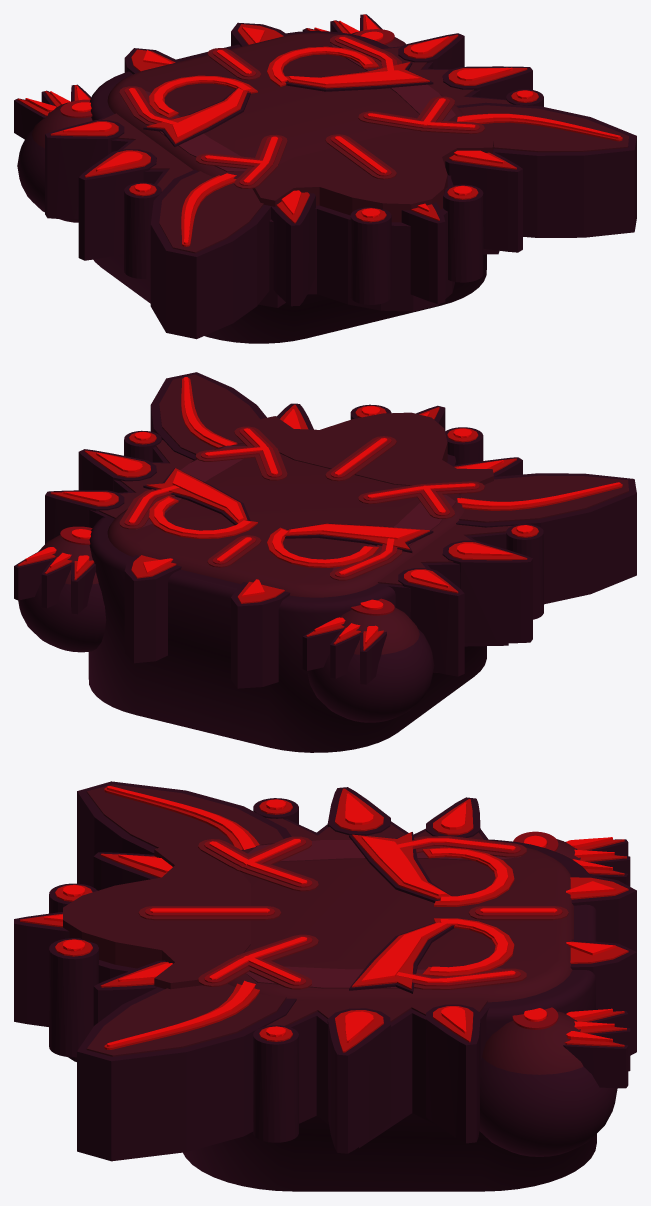
File: body_sombra_carmesim.fbx
3 renders of one model, top to bottom at view 1: azimuth 30°, elevation 25°; view 2: azimuth 150°, elevation 25°; view 3: azimuth 270°, elevation 25°, orthographic. The views are drawn at different scales.
Visible parts, largest first — view 1: body_sombra_carmesim_corpo, body_sombra_carmesim_mao_esq, body_sombra_carmesim_corpo_neon, body_sombra_carmesim_mao, body_sombra_carmesim_mao_esq_neon; view 2: body_sombra_carmesim_corpo, body_sombra_carmesim_mao_esq, body_sombra_carmesim_mao, body_sombra_carmesim_corpo_neon, body_sombra_carmesim_mao_neon, body_sombra_carmesim_mao_esq_neon; view 3: body_sombra_carmesim_corpo, body_sombra_carmesim_mao, body_sombra_carmesim_corpo_neon, body_sombra_carmesim_mao_esq, body_sombra_carmesim_mao_neon, body_sombra_carmesim_mao_esq_neon.
Boxes of the visible parts, bbox=[...] form: body_sombra_carmesim_corpo: bbox=[45, 22, 636, 343]; body_sombra_carmesim_mao_esq: bbox=[14, 84, 92, 222]; body_sombra_carmesim_corpo_neon: bbox=[143, 27, 622, 246]; body_sombra_carmesim_mao: bbox=[302, 14, 405, 47]; body_sombra_carmesim_mao_esq_neon: bbox=[17, 85, 90, 116]; body_sombra_carmesim_corpo: bbox=[45, 372, 636, 752]; body_sombra_carmesim_mao_esq: bbox=[302, 598, 434, 722]; body_sombra_carmesim_mao: bbox=[14, 526, 106, 652]; body_sombra_carmesim_corpo_neon: bbox=[143, 377, 622, 597]; body_sombra_carmesim_mao_neon: bbox=[17, 547, 94, 580]; body_sombra_carmesim_mao_esq_neon: bbox=[306, 617, 383, 650]; body_sombra_carmesim_corpo: bbox=[14, 781, 636, 1191]; body_sombra_carmesim_mao: bbox=[479, 1007, 630, 1156]; body_sombra_carmesim_corpo_neon: bbox=[104, 786, 615, 1049]; body_sombra_carmesim_mao_esq: bbox=[513, 831, 630, 886]; body_sombra_carmesim_mao_neon: bbox=[564, 1008, 626, 1047]; body_sombra_carmesim_mao_esq_neon: bbox=[566, 837, 626, 875].
Size of the model in its own units: 6.36 by 2.07 by 5.98.
Materials: 1 (1 with a texture image).
